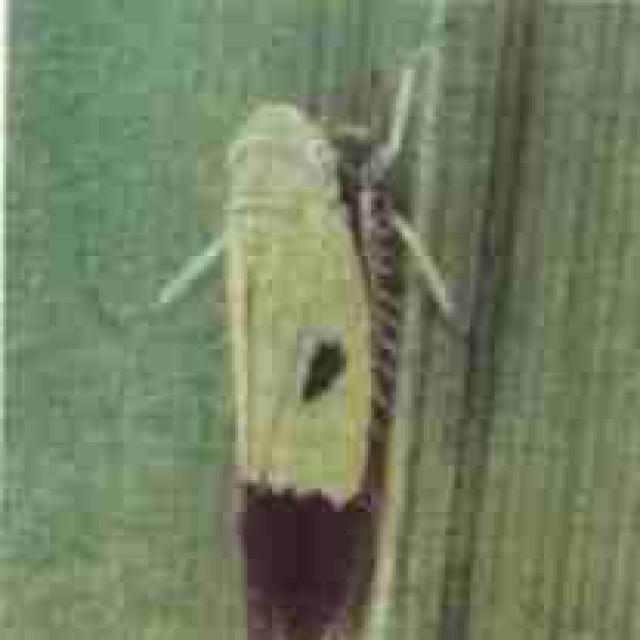Yechan: (148, 94, 458, 634)
